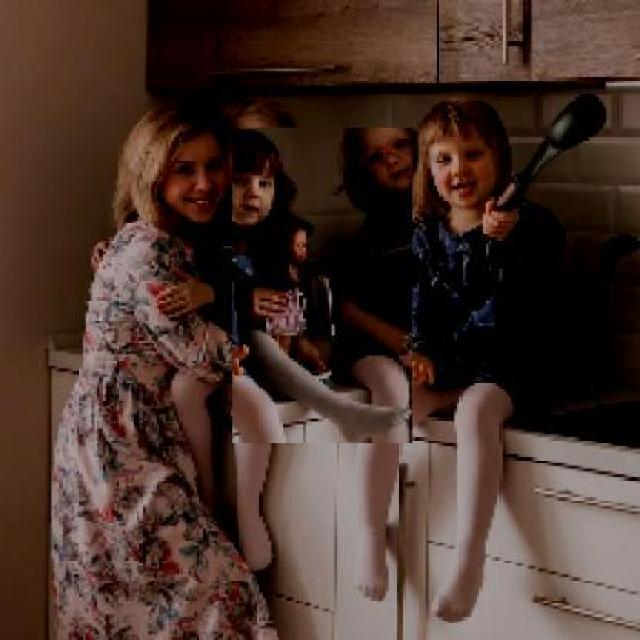child: (352, 94, 568, 623), (170, 97, 313, 574), (231, 128, 412, 446)
